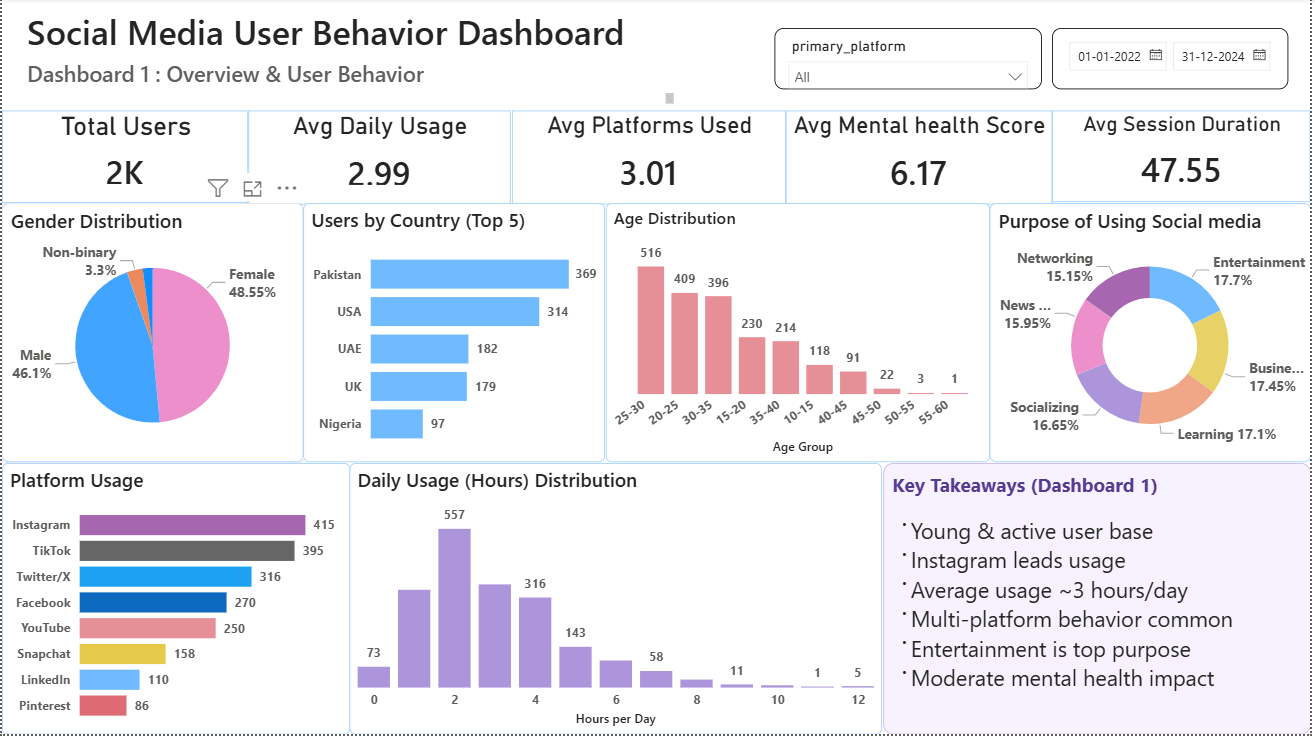

The page's visual inventory and layout, read from the dashboard file:
{"tool":"powerbi","page":{"name":"Page 1","canvas":[1280,720],"ordinal":0},"visuals":[{"type":"cardVisual","title":"Total Users","fields":{"Data":["social_media_user_behavior.Total Users"]},"box":[0,110.1,240.9,90.5],"z":0},{"type":"cardVisual","title":"Avg Daily Usage","fields":{"Data":["social_media_user_behavior.Avg Daily Usage"]},"box":[240.9,110.1,256.8,91.7],"z":1000},{"type":"cardVisual","title":"Avg Mental health Score","fields":{"Data":["social_media_user_behavior.Avg Mental Health Score"]},"box":[766.7,110.1,260.5,91.7],"z":2000},{"type":"cardVisual","title":"Avg Platforms Used","fields":{"Data":["social_media_user_behavior.Avg Platforms Used"]},"box":[498.9,110.1,267.8,91.7],"z":3000},{"type":"cardVisual","title":"Avg Session Duration","fields":{"Data":["social_media_user_behavior.Avg Session Duration"]},"box":[1027.2,110.1,253.1,89.3],"z":4000},{"type":"pieChart","title":"Gender Distribution","fields":{"Category":["social_media_user_behavior.gender"],"Y":["CountNonNull(social_media_user_behavior.user_id)"]},"box":[0,201.1,295,253.9],"z":5000},{"type":"barChart","title":"Users by Country (Top 5)","fields":{"Category":["social_media_user_behavior.country"],"Y":["CountNonNull(social_media_user_behavior.user_id)"]},"box":[295,201.1,295,253.9],"z":6000},{"type":"columnChart","title":"Age Distribution","fields":{"Y":["CountNonNull(social_media_user_behavior.user_id)"],"Category":["social_media_user_behavior.Age Group"]},"box":[590.1,201.1,375.8,253.9],"z":7000},{"type":"barChart","title":"Platform Usage","fields":{"Category":["social_media_user_behavior.primary_platform"],"Y":["CountNonNull(social_media_user_behavior.user_id)"]},"box":[0,455,340.6,265.7],"z":8000},{"type":"columnChart","title":"Daily Usage (Hours) Distribution","fields":{"Category":["social_media_user_behavior.daily_usage_hours"],"Y":["CountNonNull(social_media_user_behavior.user_id)"]},"box":[340.6,455,521.1,265.7],"z":9000},{"type":"donutChart","title":"Purpose of Using Social media","fields":{"Category":["social_media_user_behavior.primary_purpose"],"Y":["CountNonNull(social_media_user_behavior.user_id)"]},"box":[965.9,201.1,314.1,253.9],"z":10000},{"type":"textbox","title":"Social Media User Behavior Dashboard","box":[19.1,10.3,642.9,98.3],"z":11000},{"type":"textbox","box":[861.7,455,418.3,265.7],"z":14000},{"type":"slicer","fields":{"Values":["social_media_user_behavior.account_join_date"]},"box":[1027.2,29.3,231.1,59.9],"z":14001},{"type":"slicer","fields":{"Values":["social_media_user_behavior.primary_platform"]},"box":[755.7,29.3,261.7,59.9],"z":14002}]}

Visuals, with their boxes in screenshot pixels (x1, y1, x2, y2), scaled from the page's 1280x720 canvas onto the 1315x738 screenshot:
"Total Users" cardVisual: <region>0, 113, 247, 206</region>
"Avg Daily Usage" cardVisual: <region>247, 113, 511, 207</region>
"Avg Mental health Score" cardVisual: <region>788, 113, 1055, 207</region>
"Avg Platforms Used" cardVisual: <region>513, 113, 788, 207</region>
"Avg Session Duration" cardVisual: <region>1055, 113, 1314, 204</region>
"Gender Distribution" pieChart: <region>0, 206, 303, 466</region>
"Users by Country (Top 5)" barChart: <region>303, 206, 606, 466</region>
"Age Distribution" columnChart: <region>606, 206, 992, 466</region>
"Platform Usage" barChart: <region>0, 466, 350, 737</region>
"Daily Usage (Hours) Distribution" columnChart: <region>350, 466, 885, 737</region>
"Purpose of Using Social media" donutChart: <region>992, 206, 1314, 466</region>
"Social Media User Behavior Dashboard" textbox: <region>20, 11, 680, 111</region>
textbox: <region>885, 466, 1314, 737</region>
slicer - social_media_user_behavior.account_join_date: <region>1055, 30, 1293, 91</region>
slicer - social_media_user_behavior.primary_platform: <region>776, 30, 1045, 91</region>
